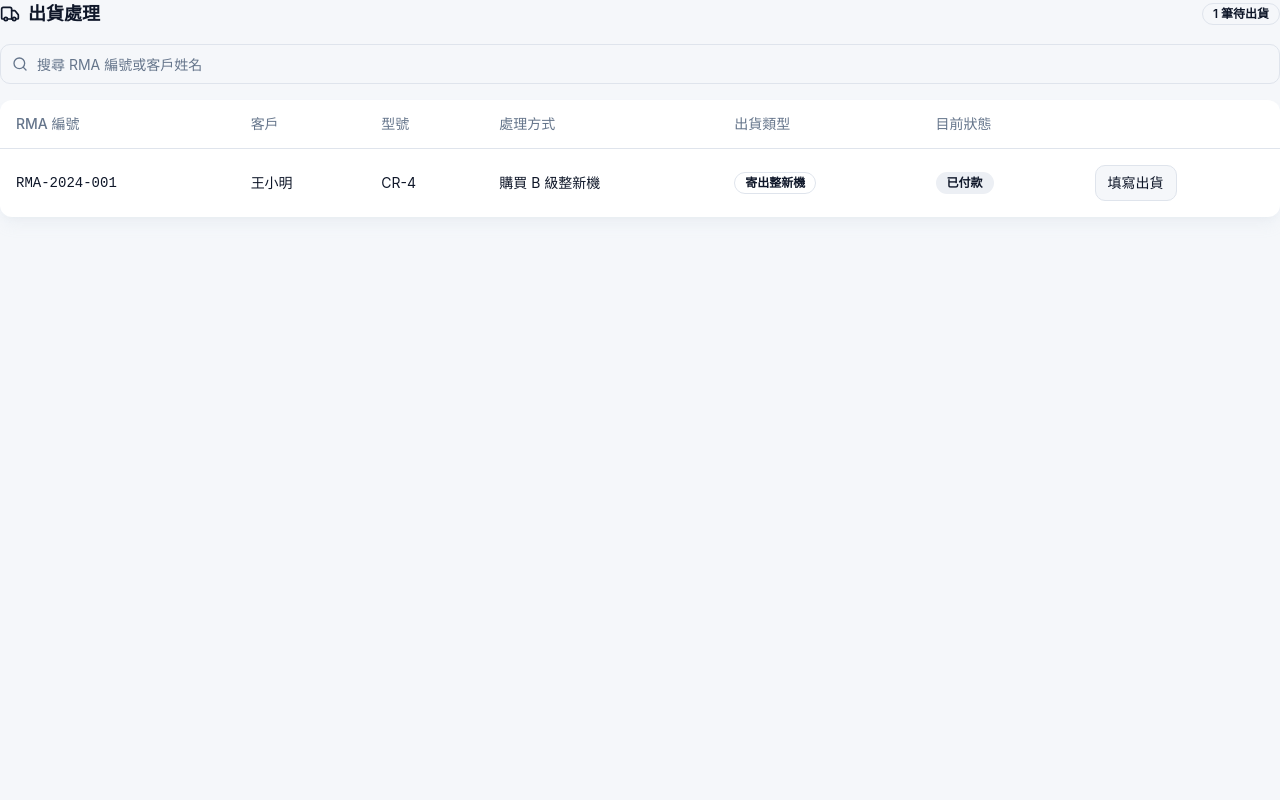
OutboundShippingTab › 確認出貨：填寫物流資訊後呼叫 submit-outbound-shipping 並顯示 success toast
The image size is (1280, 800).
Later steps or results of the test are not shown.
Check: the text "RMA-2024-001" is shown, box 0,148 -> 235,216
Click the button "填寫出貨".
click(1136, 182)  # box 1095,164 -> 1177,200
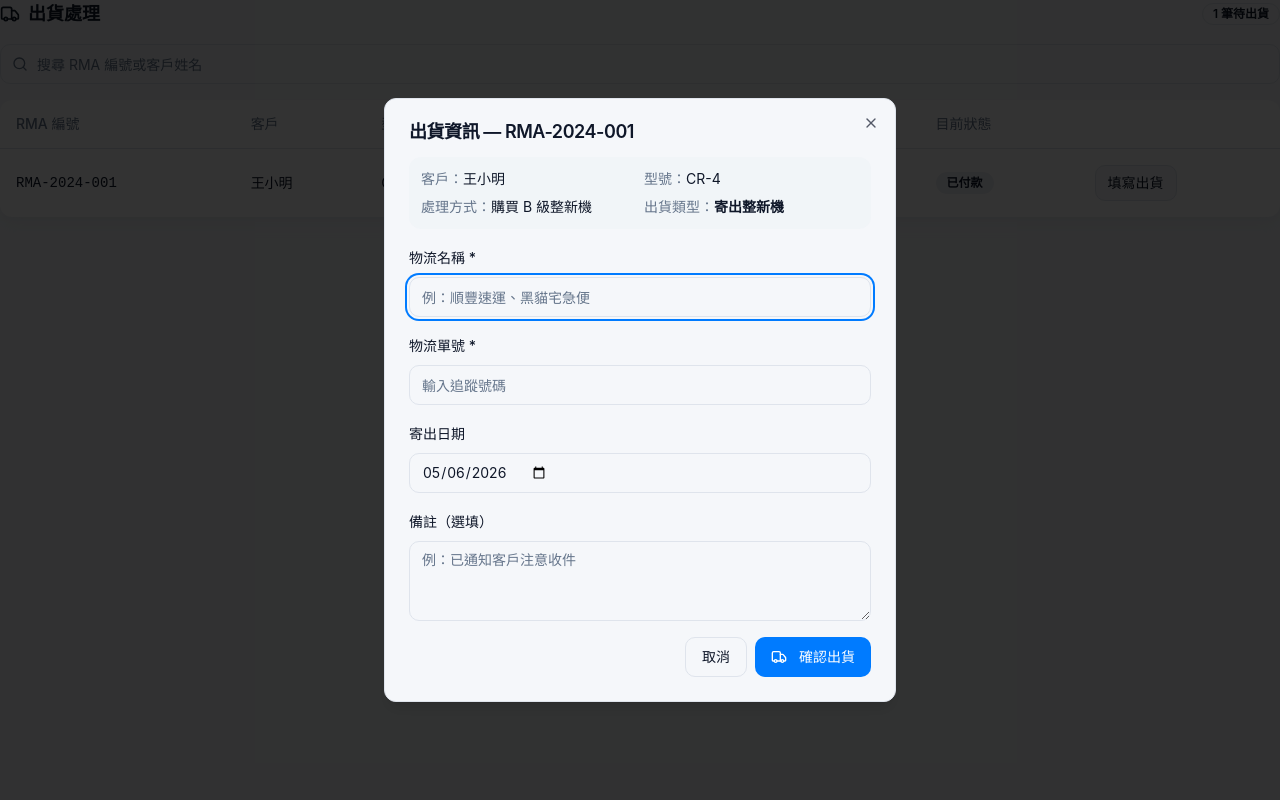
Check: the heading "出貨資訊 — RMA-2024-001" is shown, box 409,121 -> 634,142
